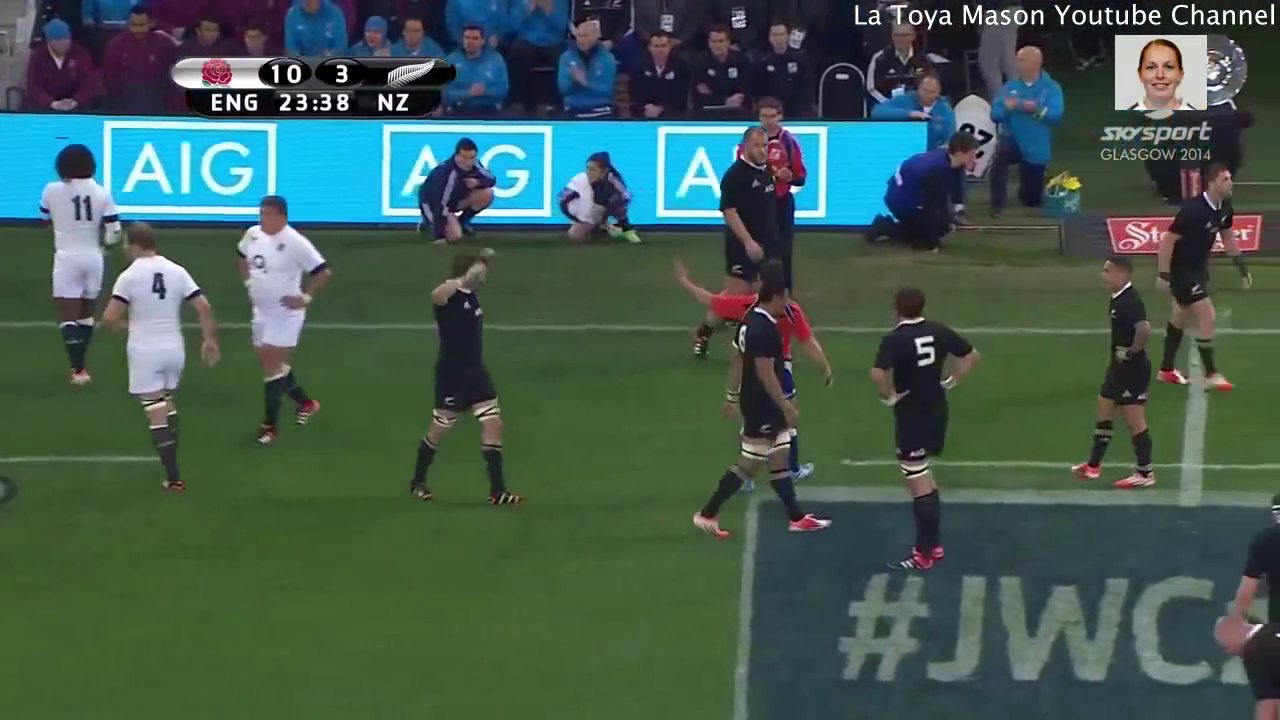player: (682, 270, 837, 540), (857, 277, 990, 582), (98, 213, 226, 523), (683, 115, 813, 384), (407, 247, 539, 511), (223, 177, 336, 465), (1059, 248, 1176, 510), (1140, 156, 1257, 400), (37, 131, 109, 390)
